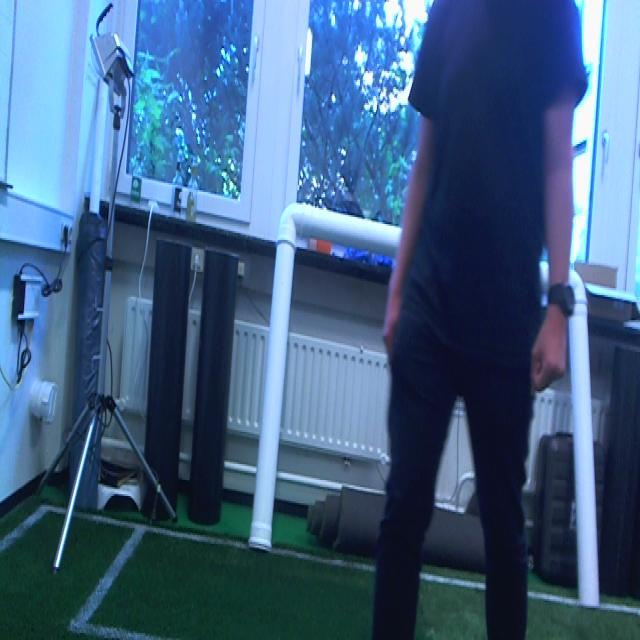goalpost: (250, 205, 303, 554), (561, 262, 602, 614)
